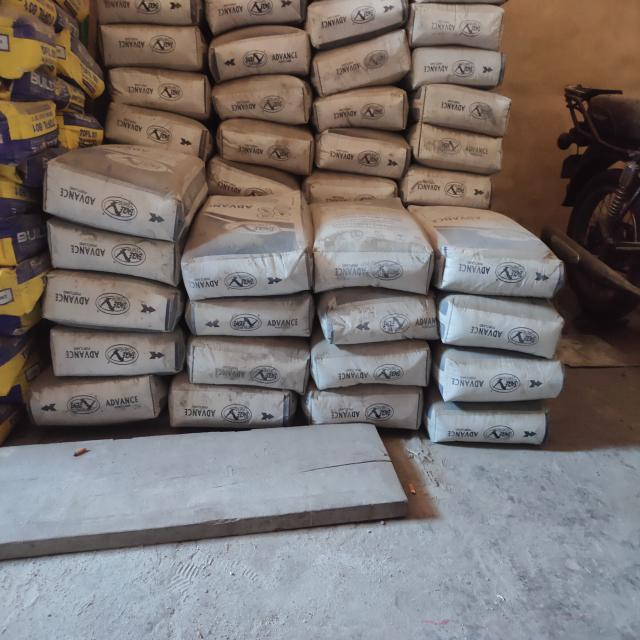Cement: (189, 194, 306, 298), (52, 149, 192, 233), (313, 200, 432, 291), (436, 218, 567, 294), (437, 301, 568, 355), (48, 223, 177, 277), (43, 276, 174, 327), (439, 352, 564, 403), (188, 339, 312, 390), (55, 333, 184, 380), (189, 297, 312, 341), (323, 299, 440, 345), (170, 386, 298, 428), (32, 386, 160, 428), (315, 343, 432, 388), (428, 405, 549, 447), (306, 388, 427, 430), (219, 118, 313, 170), (108, 111, 208, 156), (104, 25, 204, 67), (111, 74, 211, 116), (215, 79, 315, 121), (315, 44, 409, 87), (214, 32, 308, 75), (422, 91, 515, 133), (314, 90, 408, 130), (321, 135, 409, 177), (310, 1, 401, 40), (411, 1, 501, 40), (412, 48, 504, 85), (210, 166, 305, 196), (415, 133, 504, 165), (405, 175, 494, 207), (308, 177, 396, 204), (98, 1, 201, 24), (211, 3, 305, 25)
